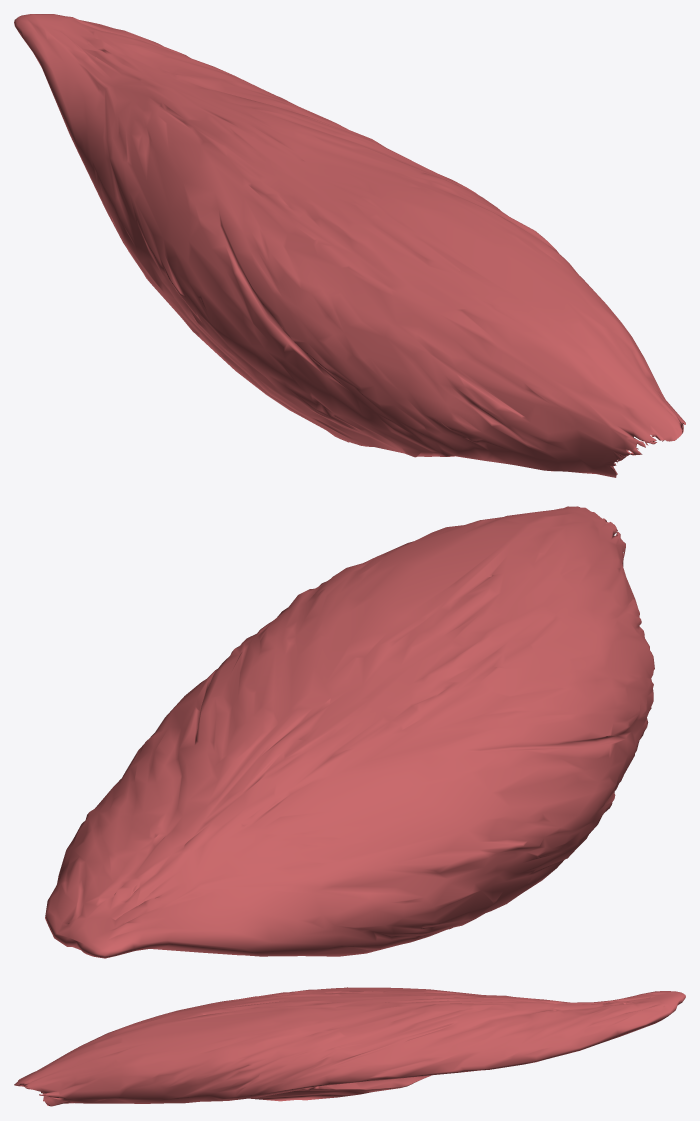
The picture shows the model from 3 angles, top to bottom: view 1: azimuth 30°, elevation 25°; view 2: azimuth 150°, elevation 25°; view 3: azimuth 270°, elevation 25°; orthographic projection. The views are drawn at different scales.
Visible parts, largest first — view 1: 左侧比目鱼肌; view 2: 左侧比目鱼肌; view 3: 左侧比目鱼肌.
Boxes of the visible parts, <box> form: 左侧比目鱼肌: <box>14,14,685,477</box>; 左侧比目鱼肌: <box>45,506,654,958</box>; 左侧比目鱼肌: <box>14,987,685,1106</box>.
Bounding box in the file's own units: 0.1254 × 0.0814 × 0.4063.
